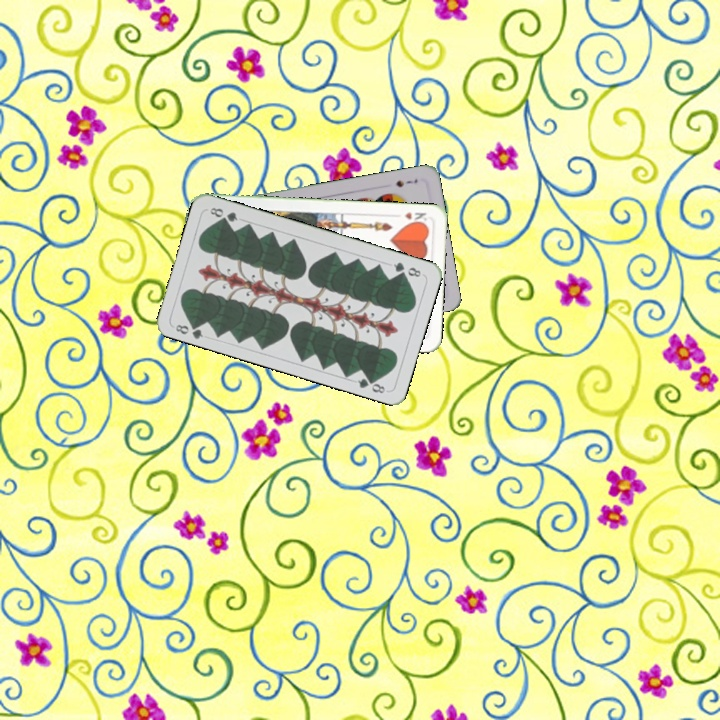G8: (171, 318, 206, 341), (389, 258, 424, 280)
HK: (400, 208, 429, 227)
S7: (392, 175, 420, 190)
